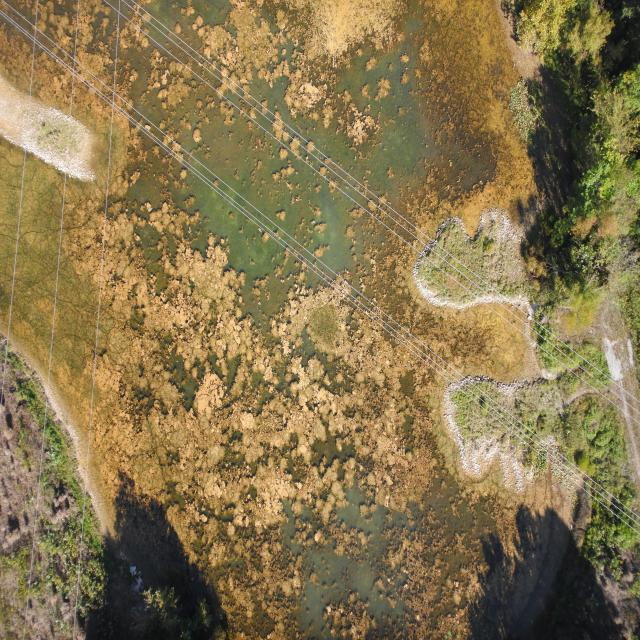Area of Interest: (515, 7, 637, 269)
